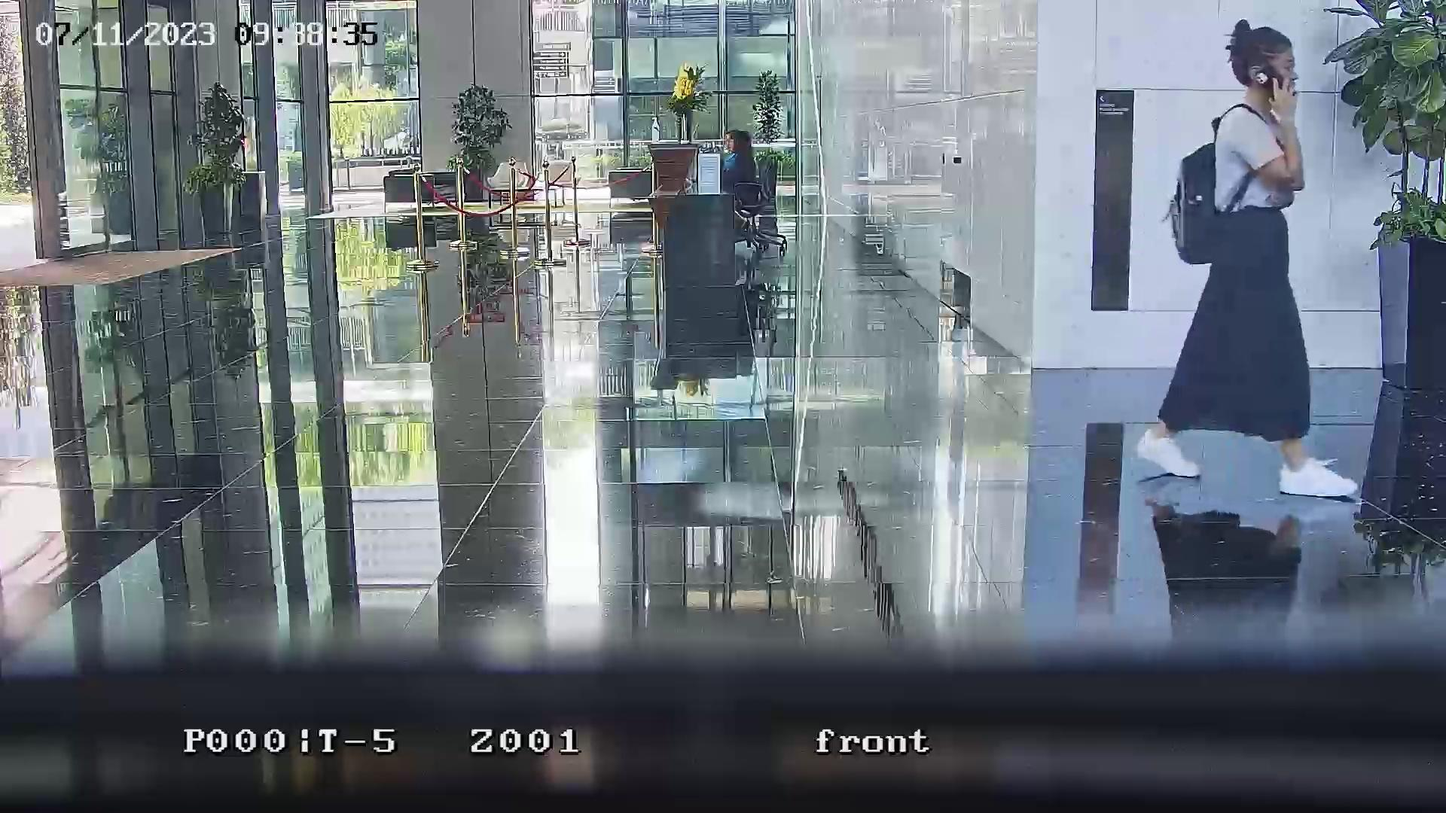person: (1158, 24, 1356, 499), (722, 129, 758, 207)
